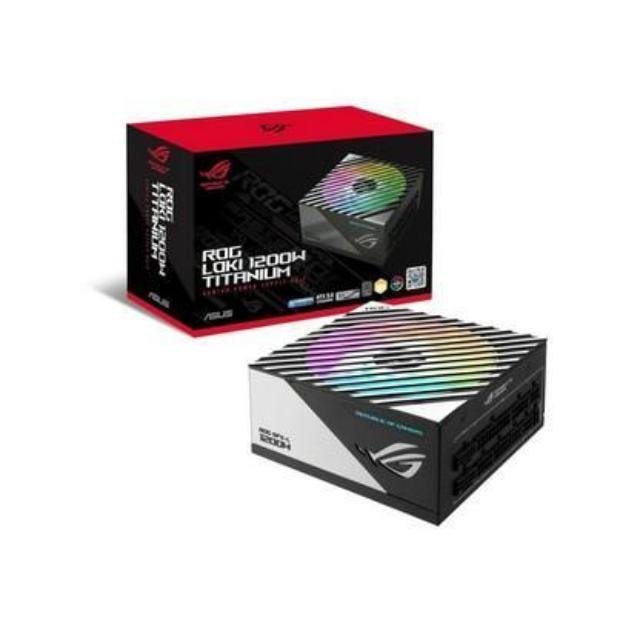PSU: (246, 299, 568, 532)
